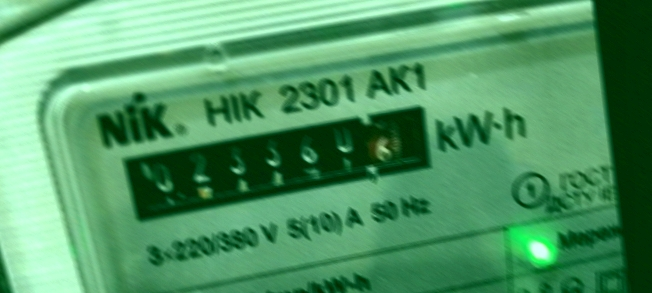0: (149, 159, 175, 195), (329, 122, 354, 156)
2: (187, 149, 211, 184)
3: (260, 133, 283, 168), (223, 144, 245, 177)
6: (370, 131, 395, 166), (295, 131, 319, 166)
screen: (103, 94, 451, 230)
